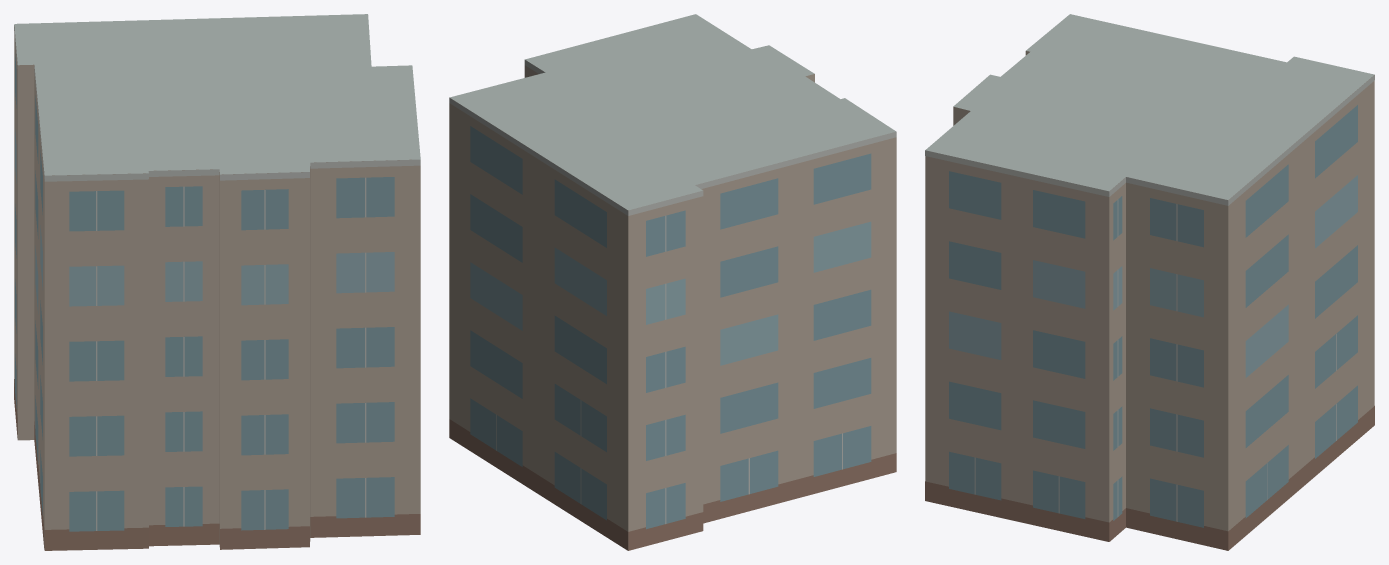
File: survey-upis-32842955.glb
3 views of the same model, side by side, from view 1: azimuth 30°, elevation 25°; view 2: azimuth 150°, elevation 25°; view 3: azimuth 270°, elevation 25° (orthographic). The views are drawn at different scales.
Parts seen in each view (by area): view 1: survey-upis-32842955.tmp; view 2: survey-upis-32842955.tmp; view 3: survey-upis-32842955.tmp.
Part boxes in pixels (x1,y1,x2,y2): survey-upis-32842955.tmp: [14, 14, 420, 550]; survey-upis-32842955.tmp: [449, 14, 896, 550]; survey-upis-32842955.tmp: [925, 14, 1374, 550].
Bounding box in the file's own units: 16.97 × 14.9 × 17.32.
